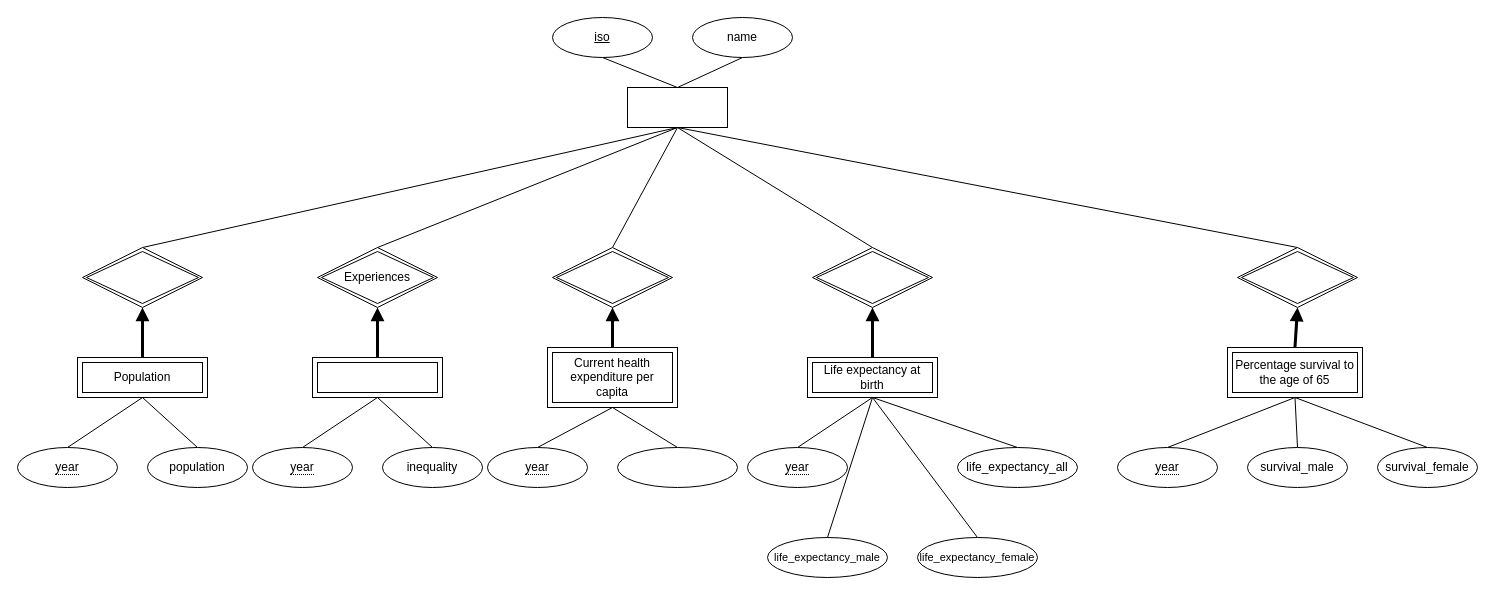
Some shapes in this 1495 by 595 pixel diagram are drawn without their labels. The shapes that lost their labels are listed below. From the top down, each one's centre as x and y in pixels, then its label:
At pixel 677 107: "Country".
At pixel 142 277: "Has".
At pixel 612 277: "Reports".
At pixel 872 277: "Confirms".
At pixel 1297 277: "Administers".
At pixel 377 377: "Inequality in life expectancy".
At pixel 677 467: "health_expenditure".
